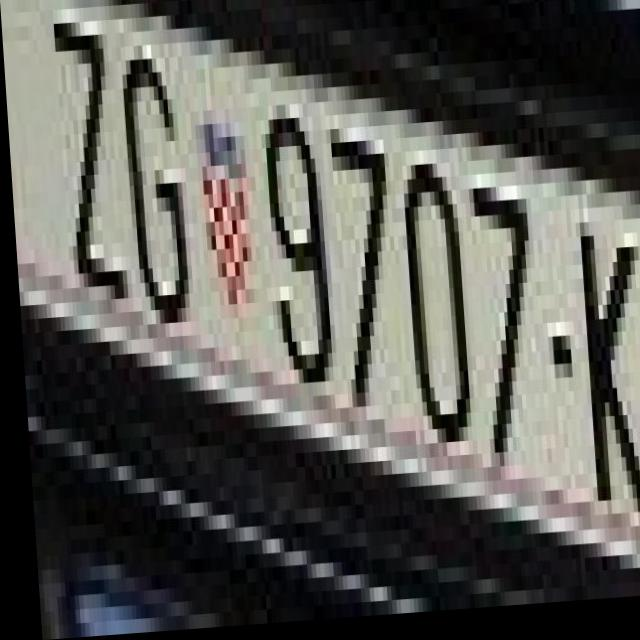0: (386, 169, 467, 465)
7: (455, 151, 538, 503), (317, 89, 396, 441)
9: (246, 66, 325, 403)
G: (109, 4, 191, 328)
K: (557, 200, 640, 553)
Z: (39, 0, 120, 304)
